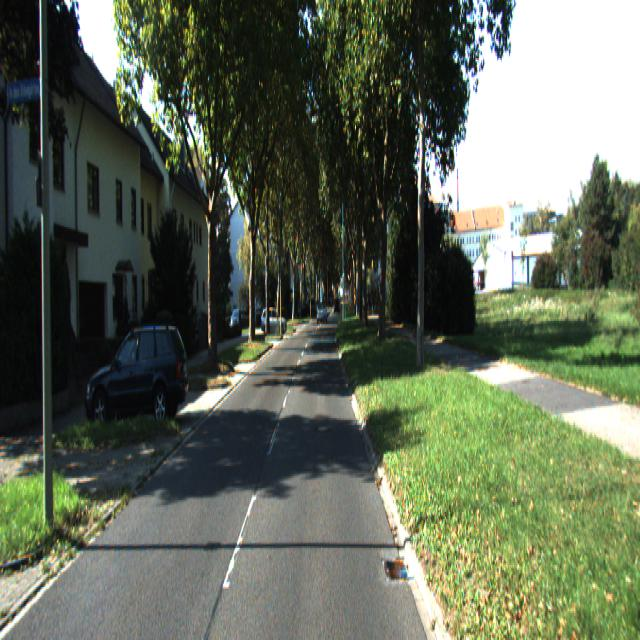Car: (85, 319, 192, 432), (260, 304, 288, 331)
